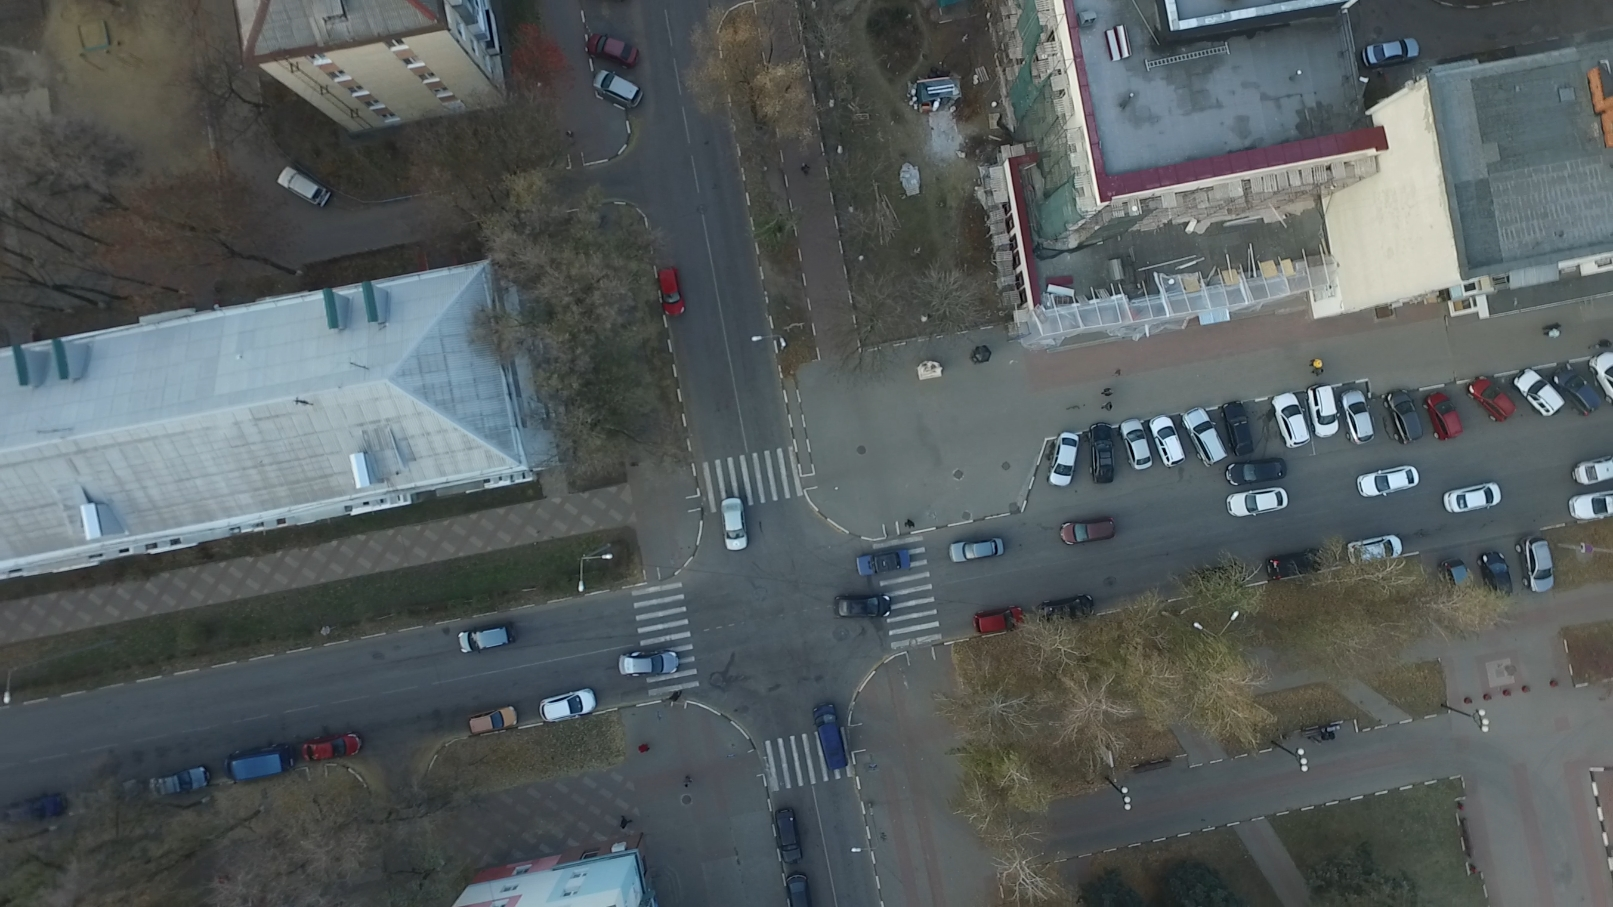car: (1508, 367, 1563, 420), (1184, 404, 1230, 467), (225, 745, 292, 783), (1551, 365, 1601, 416), (812, 702, 847, 773), (1466, 374, 1514, 423), (273, 166, 329, 207), (1381, 389, 1422, 444), (592, 66, 643, 111), (1272, 392, 1312, 449), (1336, 388, 1374, 446), (538, 688, 598, 724), (304, 731, 362, 766), (1422, 390, 1465, 439), (1519, 537, 1554, 592), (1305, 383, 1340, 439), (1147, 416, 1184, 468), (1478, 553, 1517, 602), (1042, 433, 1078, 487), (1444, 481, 1501, 514), (587, 31, 639, 68), (1229, 487, 1290, 518), (459, 622, 515, 656), (146, 766, 212, 794), (1436, 556, 1473, 604), (853, 548, 913, 578), (1357, 467, 1419, 496), (1222, 403, 1255, 456), (1121, 418, 1155, 468), (618, 649, 678, 678), (13, 794, 69, 825), (775, 807, 806, 863), (1040, 594, 1096, 625), (1362, 38, 1424, 65), (1348, 533, 1403, 564), (1268, 550, 1321, 583), (1188, 564, 1245, 592), (970, 604, 1026, 633), (720, 497, 750, 552), (655, 267, 687, 317), (1061, 517, 1114, 546), (1226, 458, 1286, 484), (1089, 424, 1114, 484), (835, 592, 891, 619), (470, 707, 518, 735), (1570, 489, 1613, 521), (1589, 352, 1613, 404), (951, 539, 1005, 561), (1572, 457, 1613, 484), (785, 873, 812, 907)
